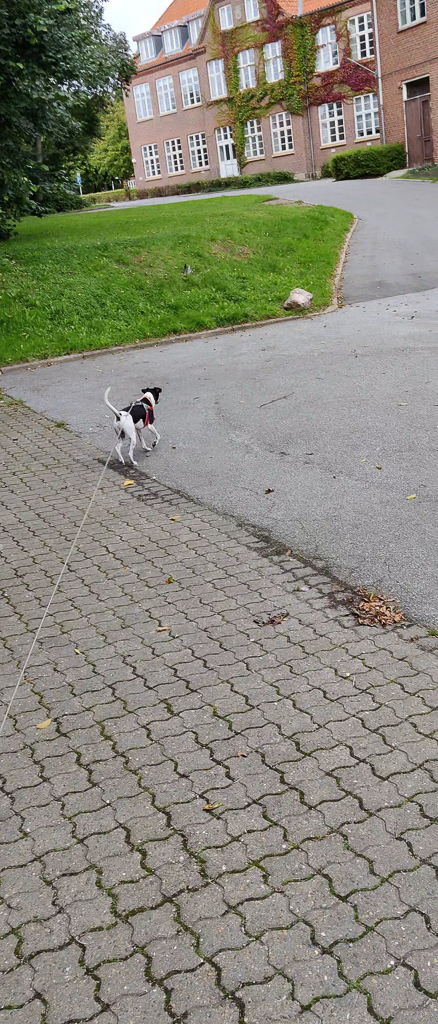Dog: (96, 377, 179, 471)
